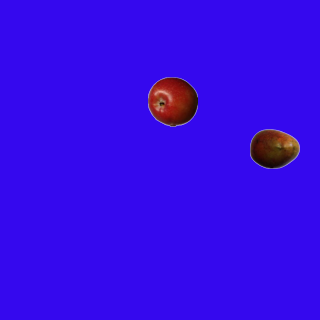Apple Braeburn: (147, 76, 197, 126)
Mango Red: (249, 123, 299, 173)
